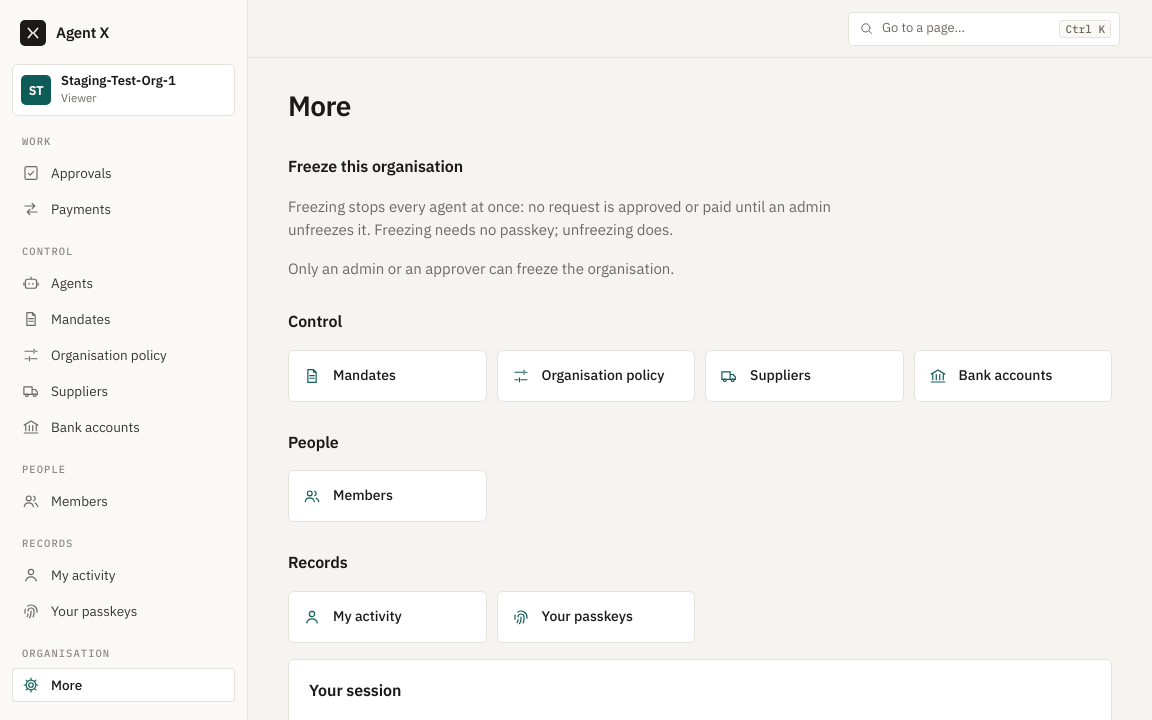
My activity (6E1a) › is reached from More by anyone signed in, whatever their role
The image size is (1152, 720).
Click the 2nd link "My activity": (387, 617) 288,591 -> 486,643
(page scrolled)
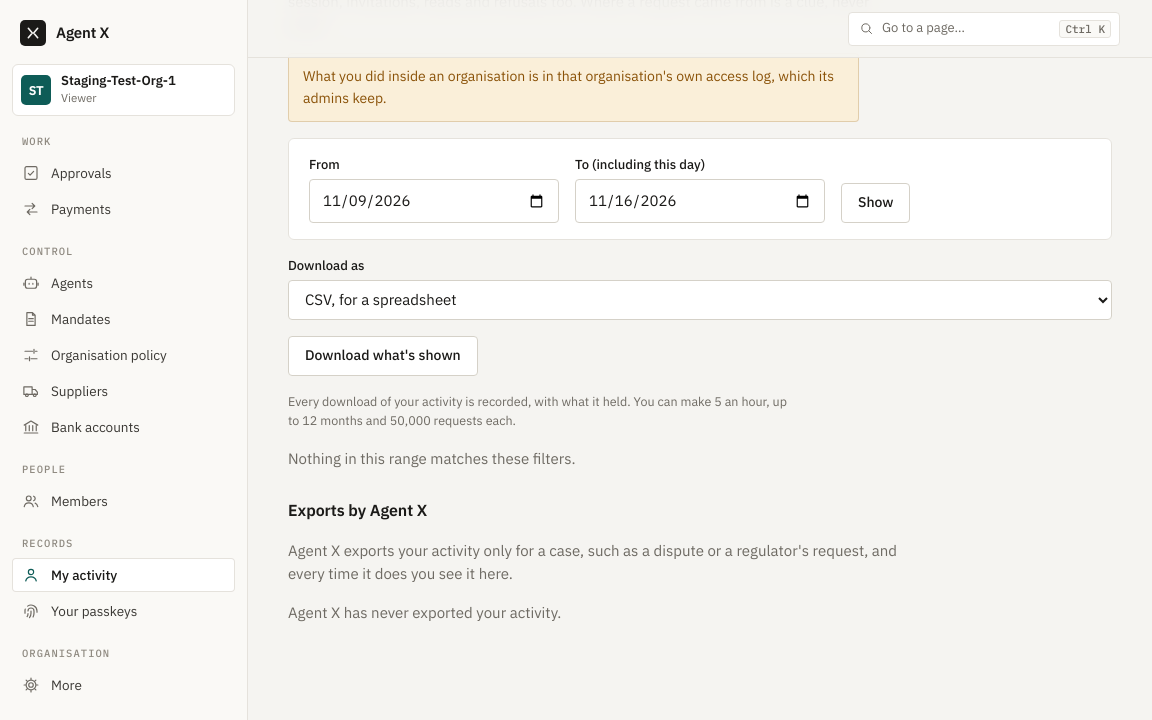
Expected: the text "Nothing in this range matches these filters." is shown, 288,449 -> 576,468
Expected: the text "Agent X has never exported your activity." is shown, 288,603 -> 561,622
